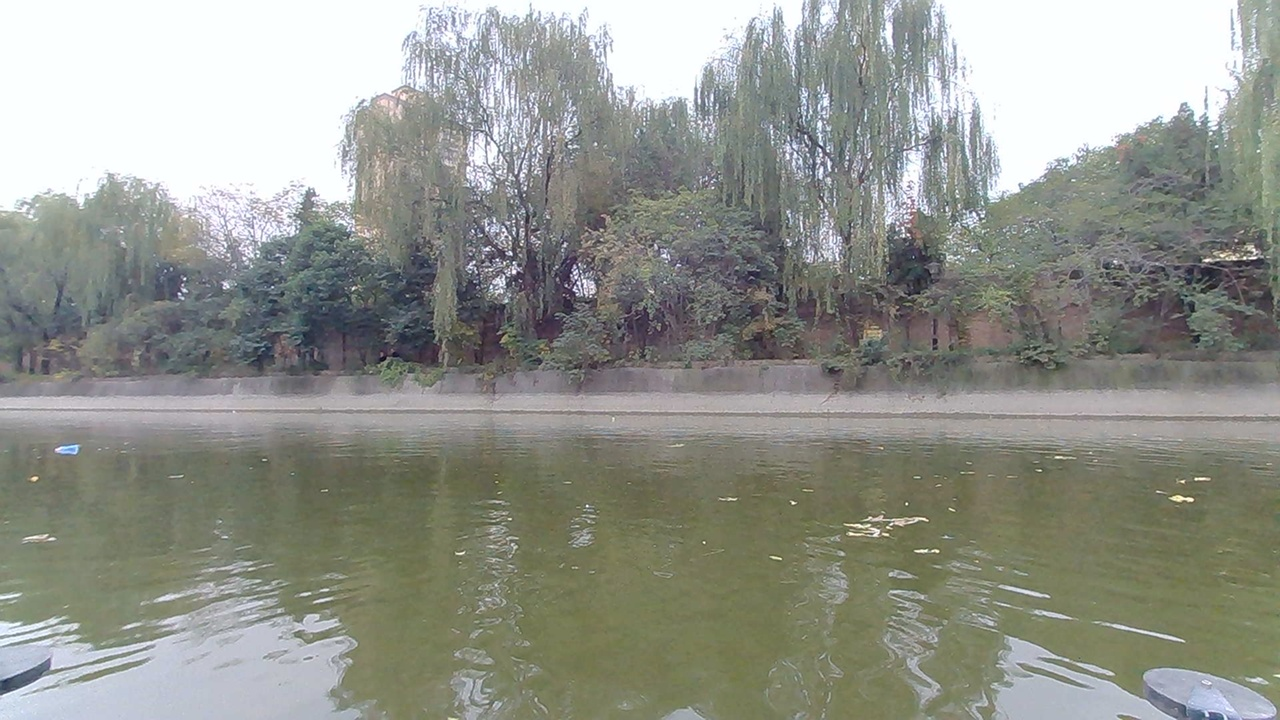bottle: (53, 438, 86, 462)
